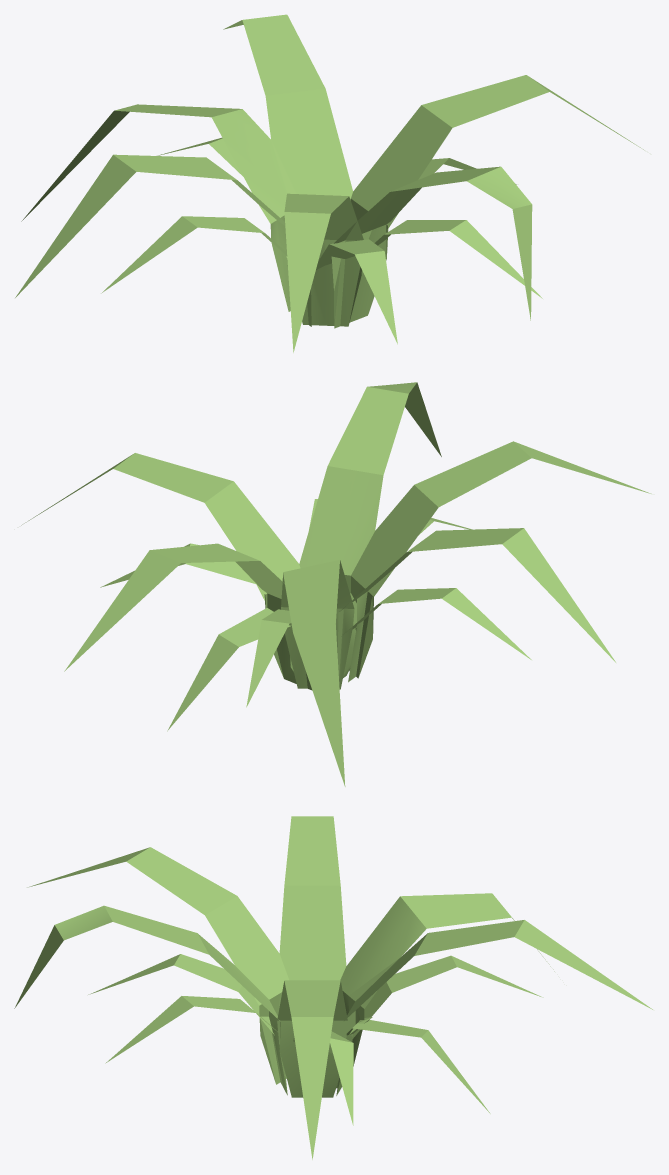
The model's file is Plant_Brush_03.fbx.
3 views of the same model, one above another, from view 1: azimuth 30°, elevation 25°; view 2: azimuth 150°, elevation 25°; view 3: azimuth 270°, elevation 25° (orthographic). The views are drawn at different scales.
Parts seen in each view (by area): view 1: Model; view 2: Model; view 3: Model.
Part boxes in pixels (x1=…): Model: x1=15, y1=14, x2=644, y2=352; Model: x1=21, y1=382, x2=651, y2=786; Model: x1=14, y1=816, x2=652, y2=1159.
Size of the model in its own units: 661 by 210 by 635.
